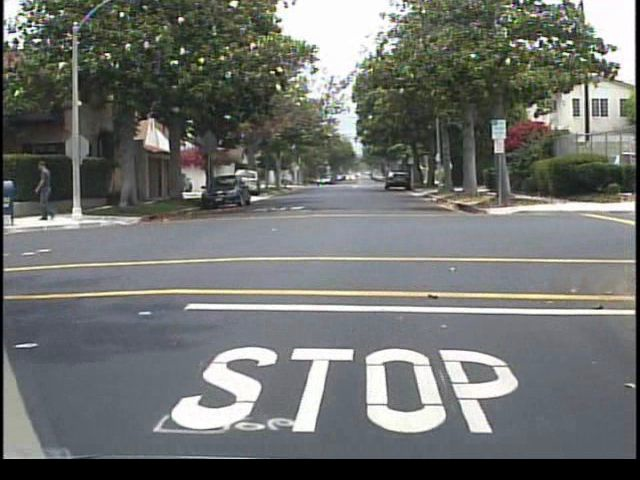person: (30, 157, 63, 227)
